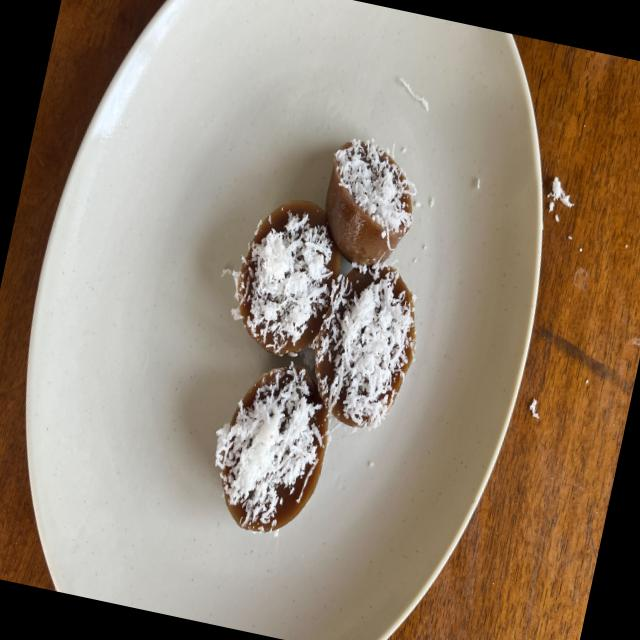Kuih lompang: (215, 364, 328, 532), (232, 199, 340, 355), (315, 264, 415, 428), (325, 138, 416, 265)
